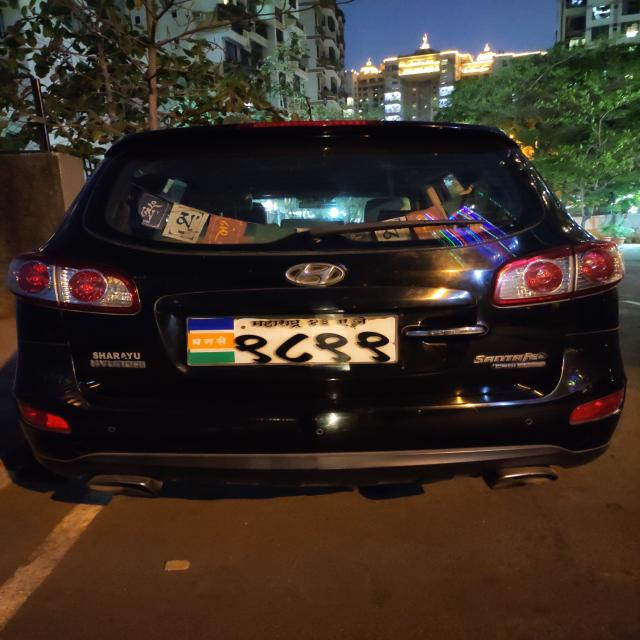Number-Plate: (190, 320, 398, 358)
